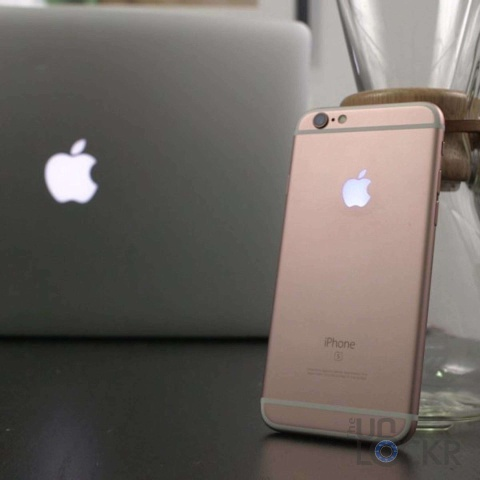apple: (40, 131, 112, 216), (335, 168, 383, 212)
